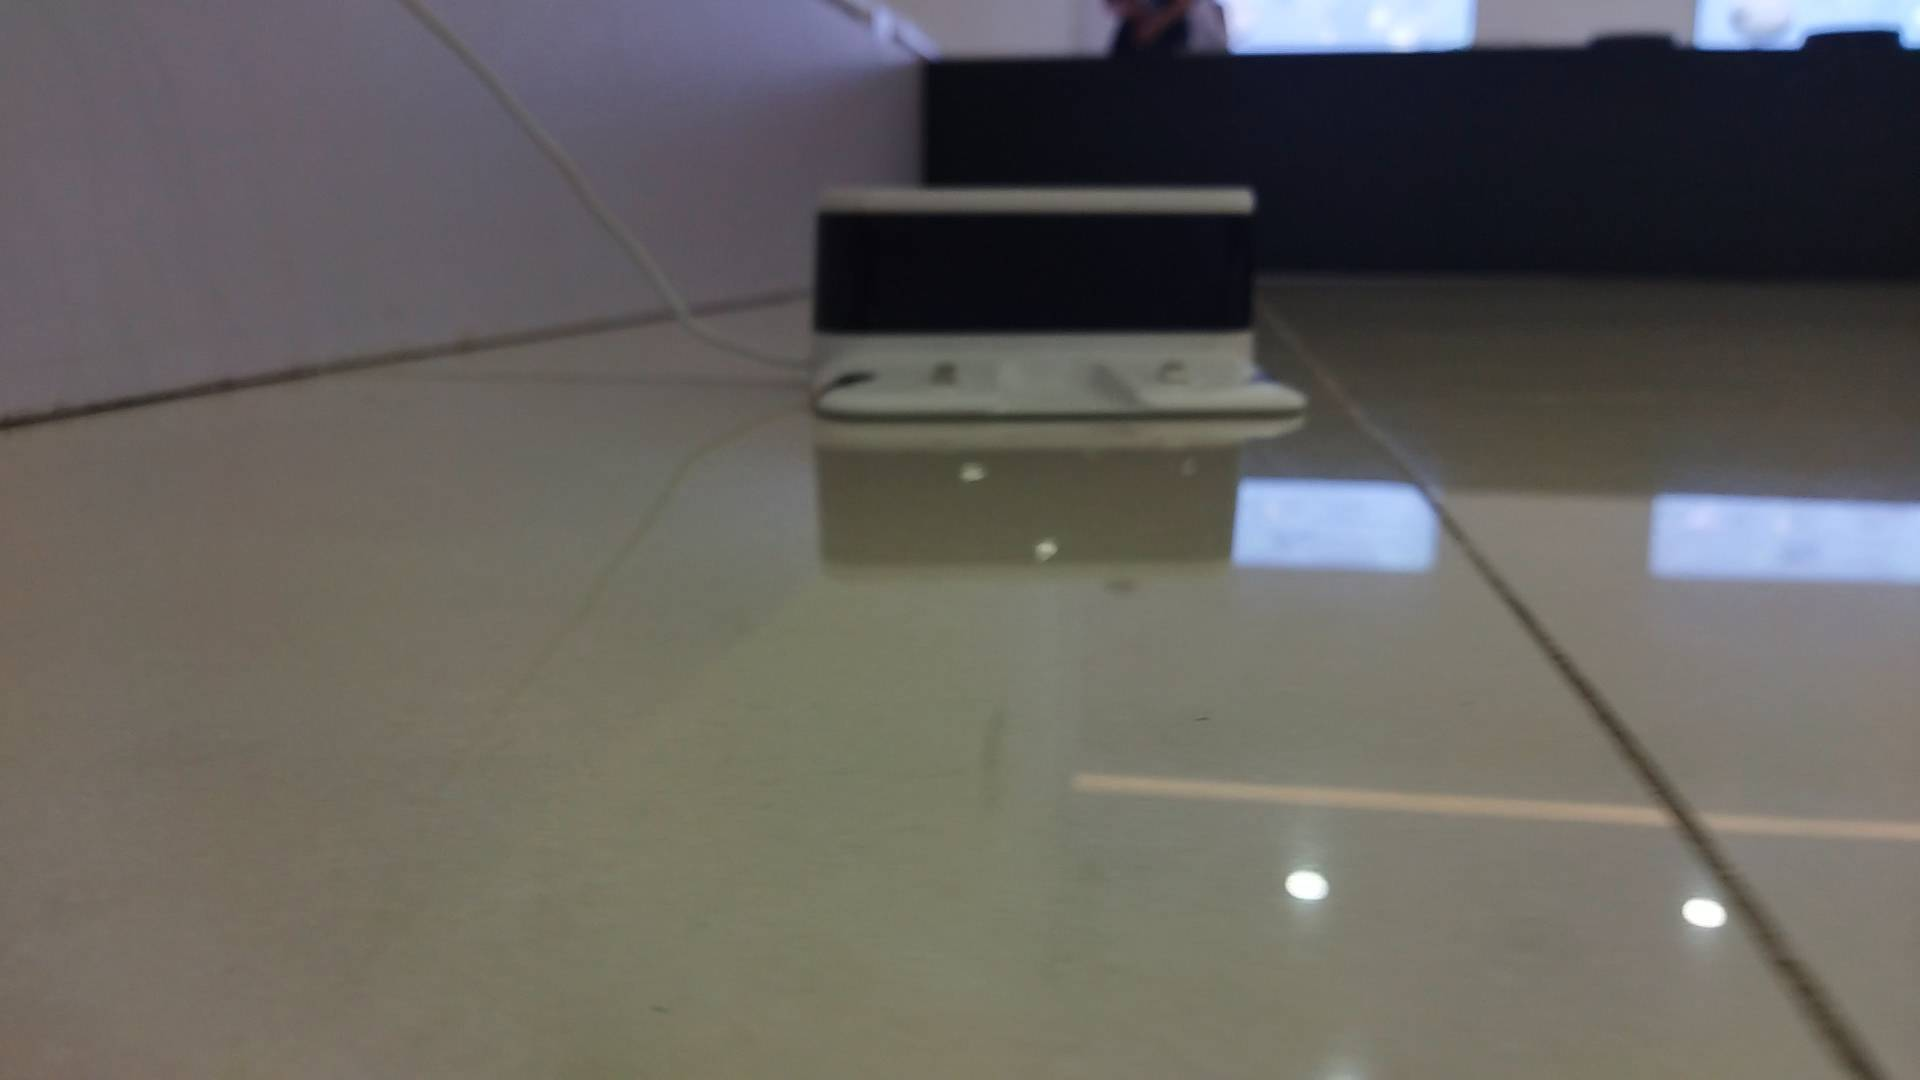recharge seat: (812, 183, 1313, 422)
